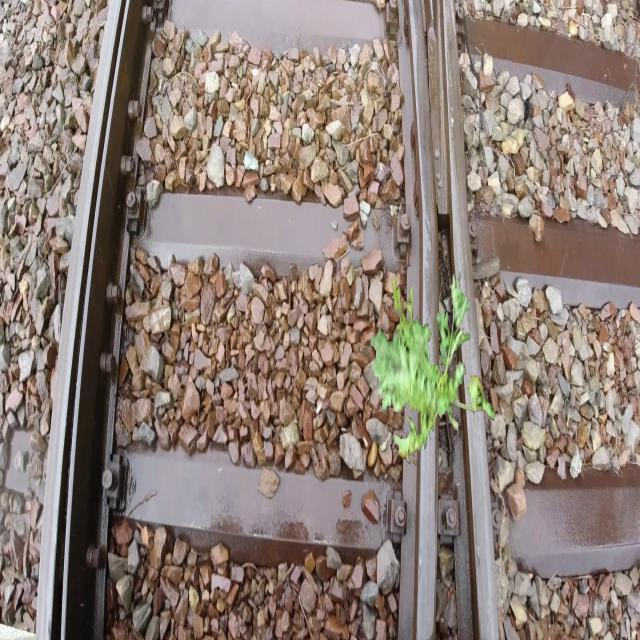Plant: (370, 271, 495, 467)
